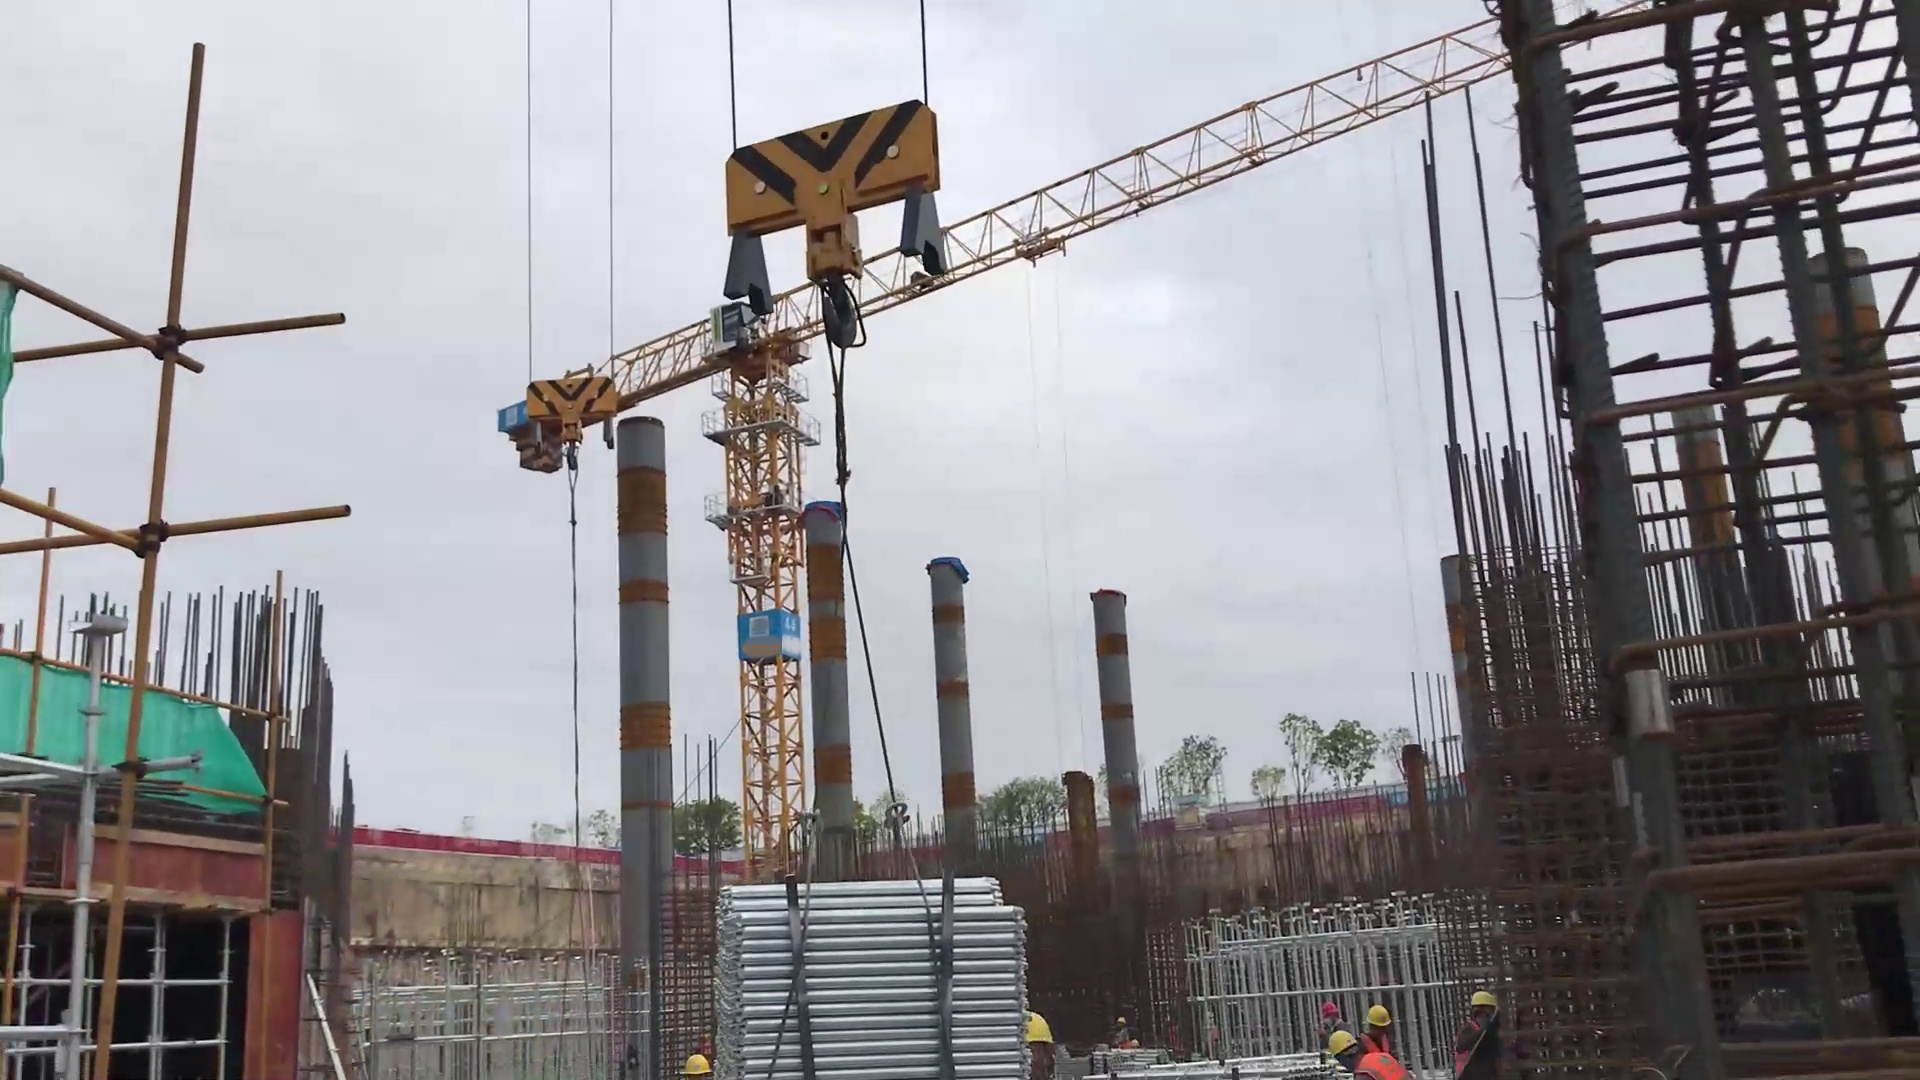helmet: (1025, 1004, 1079, 1046), (1327, 1015, 1370, 1058), (676, 1047, 727, 1080)
hook: (713, 94, 971, 349), (516, 363, 638, 465)
scaffold: (704, 862, 1062, 1079)
